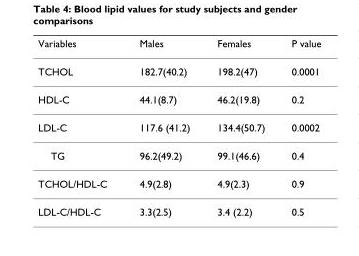table: (37, 36, 320, 217)
table column: (37, 36, 122, 217), (122, 36, 202, 217), (202, 36, 277, 217), (277, 36, 320, 217)
table column header: (37, 36, 320, 56)
table row: (37, 84, 320, 113), (37, 56, 320, 84), (37, 113, 320, 141), (37, 141, 320, 169), (37, 169, 320, 197), (37, 36, 320, 56), (37, 197, 320, 217)
